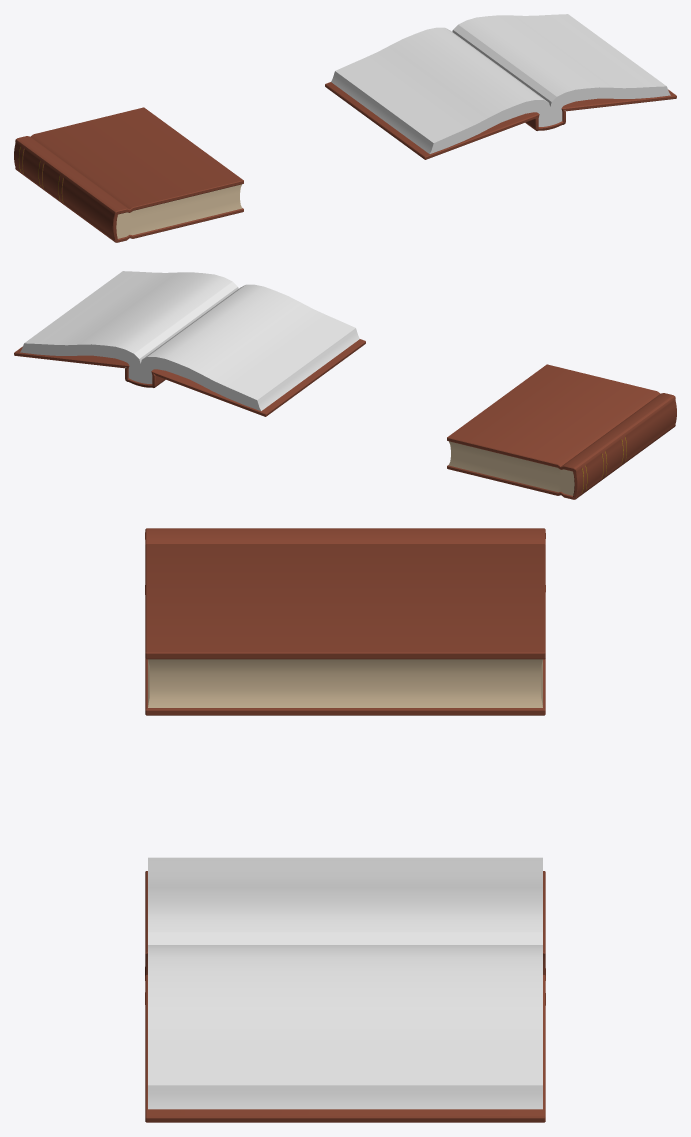
The model's file is PianoBook.fbx.
The picture shows the model from 3 angles, top to bottom: view 1: azimuth 30°, elevation 25°; view 2: azimuth 150°, elevation 25°; view 3: azimuth 270°, elevation 25°; orthographic projection. The views are drawn at different scales.
Visible parts, largest first — view 1: book content, Buch, book cover and side; view 2: book content, Buch, book cover and side; view 3: book content, Buch, book cover and side.
Part boxes in pixels (left/top/right/bottom): book content: left=335, top=14, right=666, bottom=142; Buch: left=14, top=107, right=243, bottom=242; book cover and side: left=325, top=71, right=676, bottom=159; book content: left=24, top=271, right=355, bottom=399; Buch: left=447, top=364, right=676, bottom=499; book cover and side: left=14, top=328, right=365, bottom=416; book content: left=148, top=857, right=542, bottom=1085; Buch: left=145, top=528, right=545, bottom=715; book cover and side: left=145, top=871, right=545, bottom=1122.
Size of the model in its own units: 280 by 19.43 by 86.17.
